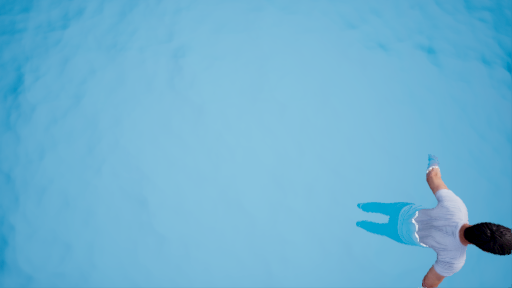person: (367, 169, 512, 286)
